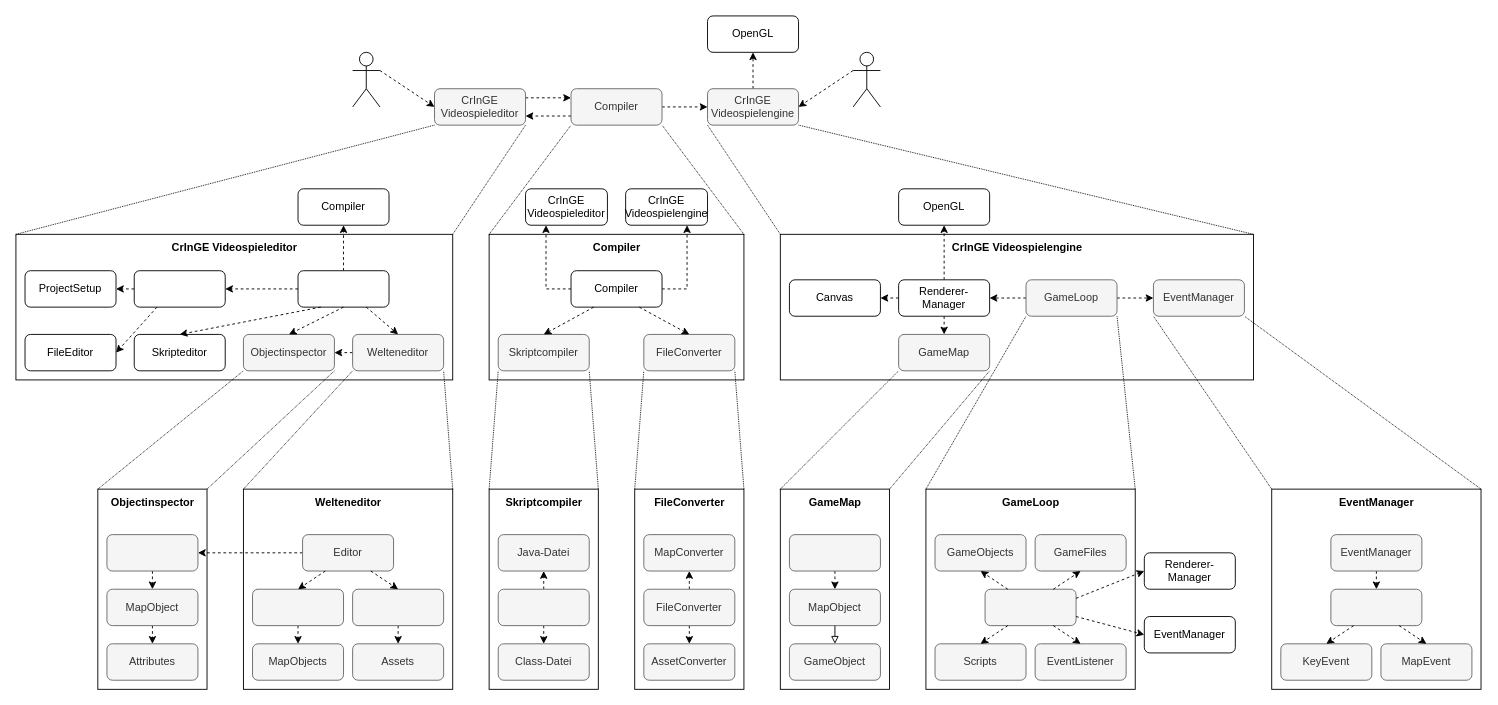
This 1498x705 diagram has some shape labels left out. Each missing label, with the centre of its shape:
Asset-Tree: point 398,607
Frame: point 343,288
GameChunk: point 834,552
Inspector: point 152,552
Java-Compiler: point 543,607
Loop: point 1030,607
Map-Explorer: point 298,607
ProjectManager: point 179,288
Registered Events: point 1376,607
Videospielentwickler: point 366,79
Videospieler: point 866,79
